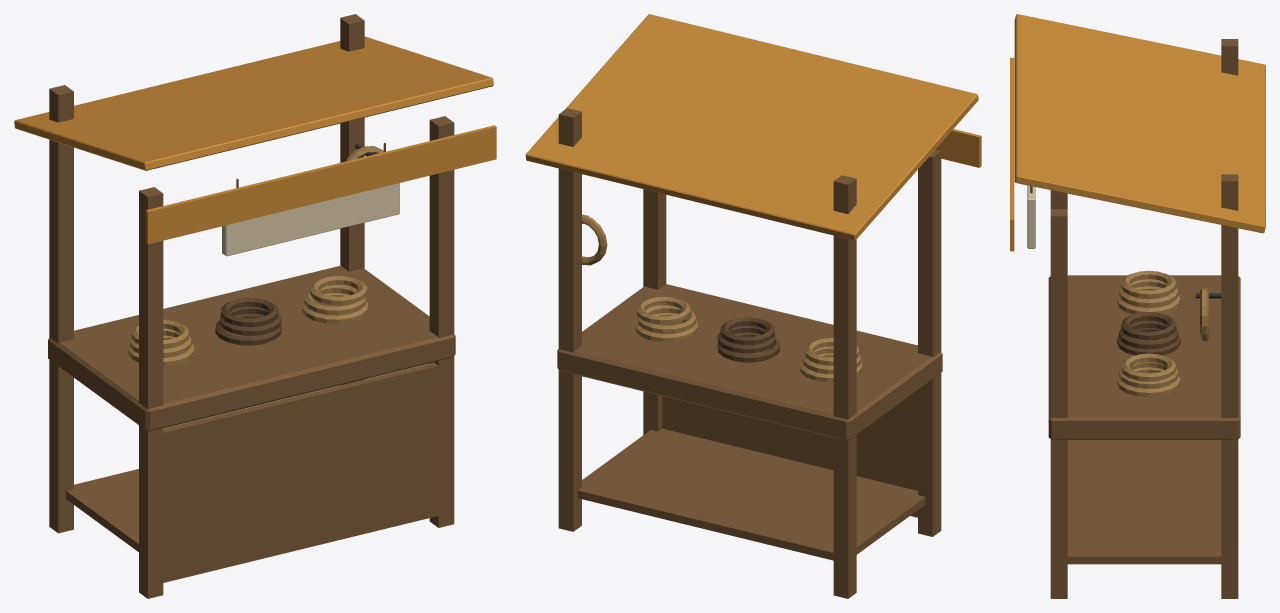
The model's file is Prop_YTM_Stall_Rope.glb.
3 views of the same model, side by side, from view 1: azimuth 30°, elevation 25°; view 2: azimuth 150°, elevation 25°; view 3: azimuth 270°, elevation 25° (orthographic). The views are drawn at different scales.
Visible parts, largest first — view 1: Prop_YTM_Stall_Rope, Prop_YTM_Stall_Rope_Goods; view 2: Prop_YTM_Stall_Rope, Prop_YTM_Stall_Rope_Goods; view 3: Prop_YTM_Stall_Rope, Prop_YTM_Stall_Rope_Goods.
Part boxes in pixels (bbox=[...]): Prop_YTM_Stall_Rope: bbox=[14, 14, 496, 598]; Prop_YTM_Stall_Rope_Goods: bbox=[128, 144, 383, 366]; Prop_YTM_Stall_Rope: bbox=[525, 14, 981, 598]; Prop_YTM_Stall_Rope_Goods: bbox=[582, 214, 862, 382]; Prop_YTM_Stall_Rope: bbox=[1010, 14, 1265, 598]; Prop_YTM_Stall_Rope_Goods: bbox=[1117, 270, 1221, 397].
Size of what is drawn, in the model's own units: 1.8 by 2.24 by 1.2.
